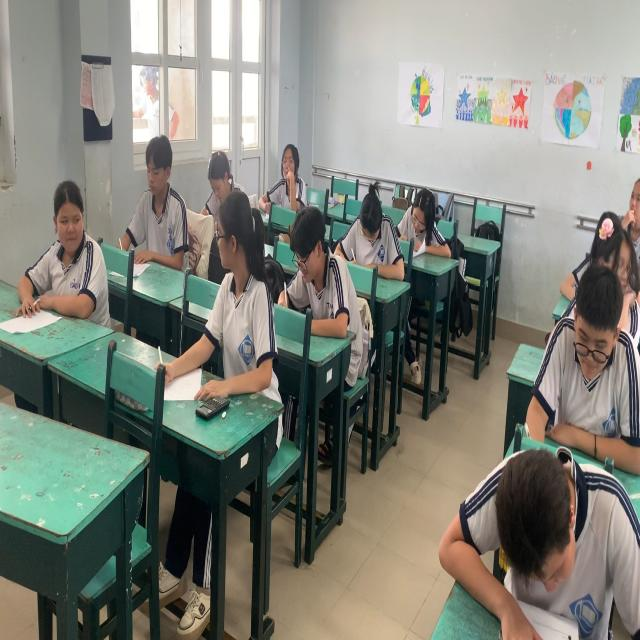cheating: (200, 192, 276, 412), (40, 178, 112, 316)
not_cheating: (492, 436, 608, 602), (285, 212, 356, 354), (562, 270, 634, 410), (131, 132, 186, 271), (346, 174, 394, 287), (191, 140, 236, 226), (590, 226, 634, 301), (406, 185, 442, 272), (272, 132, 307, 204), (603, 174, 640, 234)
